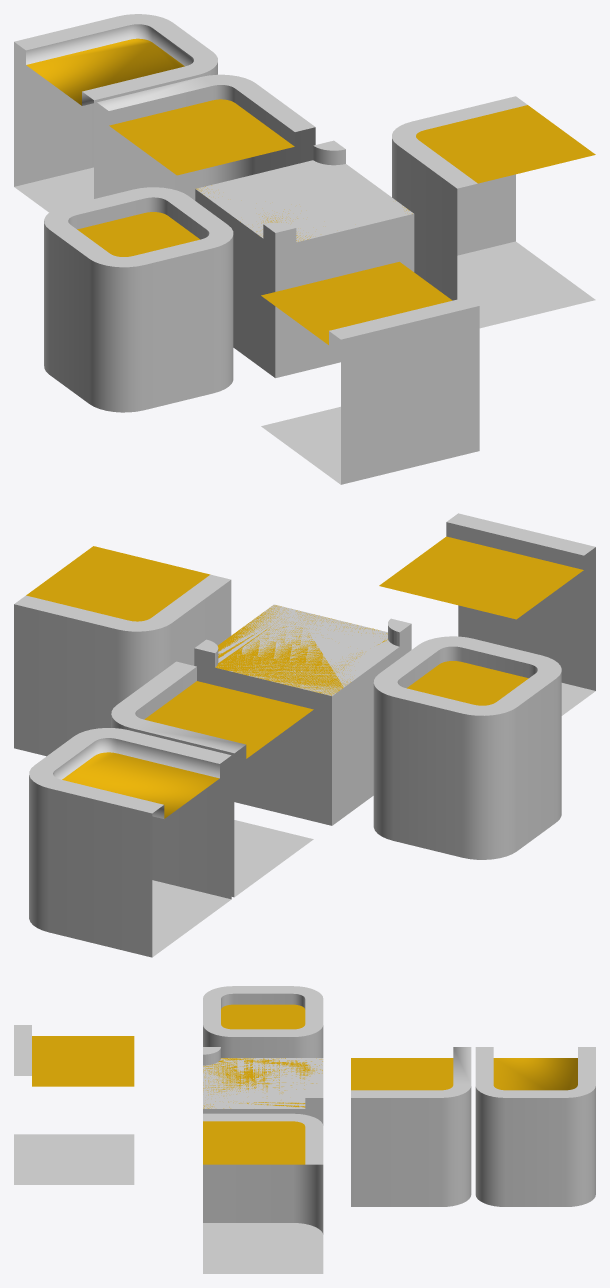
File: RuleTileAssets.fbx
3 views of the same model, one above another, from view 1: azimuth 30°, elevation 25°; view 2: azimuth 150°, elevation 25°; view 3: azimuth 270°, elevation 25° (orthographic). The views are drawn at different scales.
Visible parts, largest first — view 1: Center.001, Side, 1Rounded.001, Center, 2Rounded, 1Rounded, Center.002, Center.003; view 2: 2Rounded, Center.001, 1Rounded.001, Center, Side, 1Rounded, Center.002, Center.003; view 3: 1Rounded.001, 2Rounded, 1Rounded, Side, Center.001, Center, Center.002, Center.003.
Boxes of the visible parts, x1,y1,x2,y2 form: Center.001: (44,187,233,412); Side: (261,261,479,484); 1Rounded.001: (392,96,595,328); Center: (195,160,414,378); 2Rounded: (14,14,217,212); 1Rounded: (97,74,315,200); Center.002: (195,144,414,377); Center.003: (196,140,414,377); 2Rounded: (29,728,231,957); Center.001: (373,636,561,859); 1Rounded.001: (14,546,231,756); Center: (194,604,411,825); Side: (379,513,595,715); 1Rounded: (111,661,313,897); Center.002: (194,605,411,824); Center.003: (194,609,411,825); 1Rounded.001: (203,1113,323,1273); 2Rounded: (475,1047,595,1206); 1Rounded: (351,1047,471,1206); Side: (14,1025,134,1184); Center.001: (203,986,323,1057); Center: (203,1058,323,1125); Center.002: (203,1058,323,1124); Center.003: (203,1047,323,1113).
Bounding box in the file's own units: 7.01 × 2 × 9.66.
